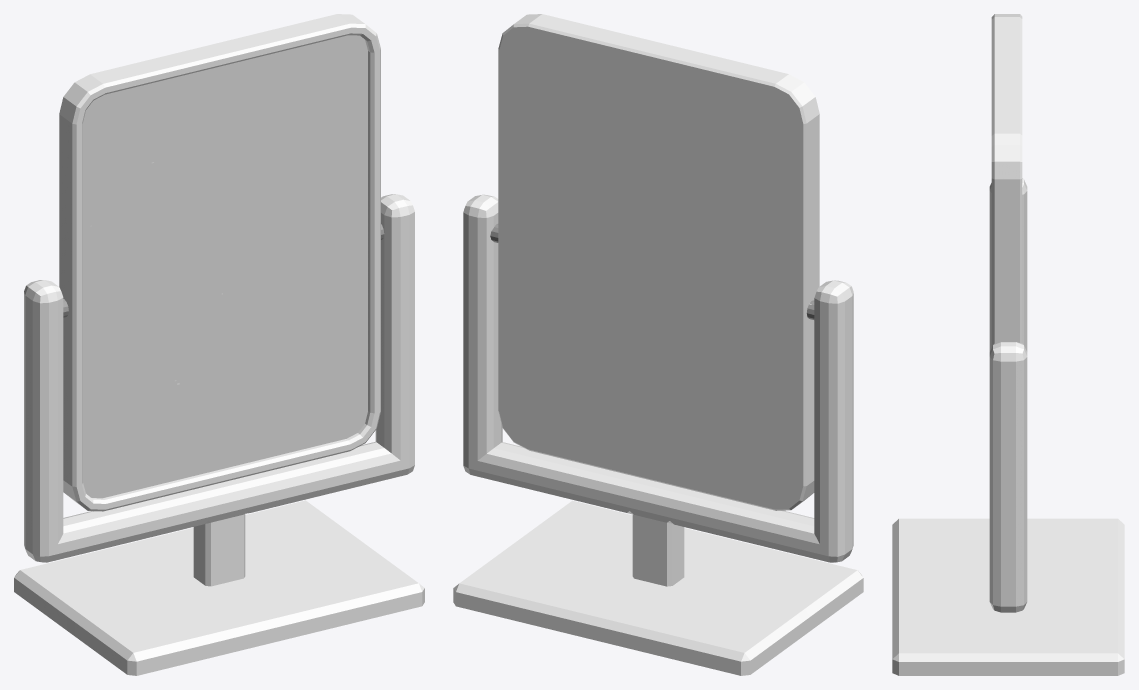
The model's file is mirror_B_2.fbx.
The picture shows the model from 3 angles, left to right: view 1: azimuth 30°, elevation 25°; view 2: azimuth 150°, elevation 25°; view 3: azimuth 270°, elevation 25°; orthographic projection. The views are drawn at different scales.
Visible parts, largest first — view 1: pCylinder4; view 2: pCylinder4; view 3: pCylinder4.
Part boxes in pixels (x1=…): pCylinder4: x1=14, y1=14, x2=424, y2=675; pCylinder4: x1=453, y1=14, x2=863, y2=675; pCylinder4: x1=892, y1=14, x2=1124, y2=675.
Bounding box in the file's own units: 17.77 × 24.45 × 9.7.
